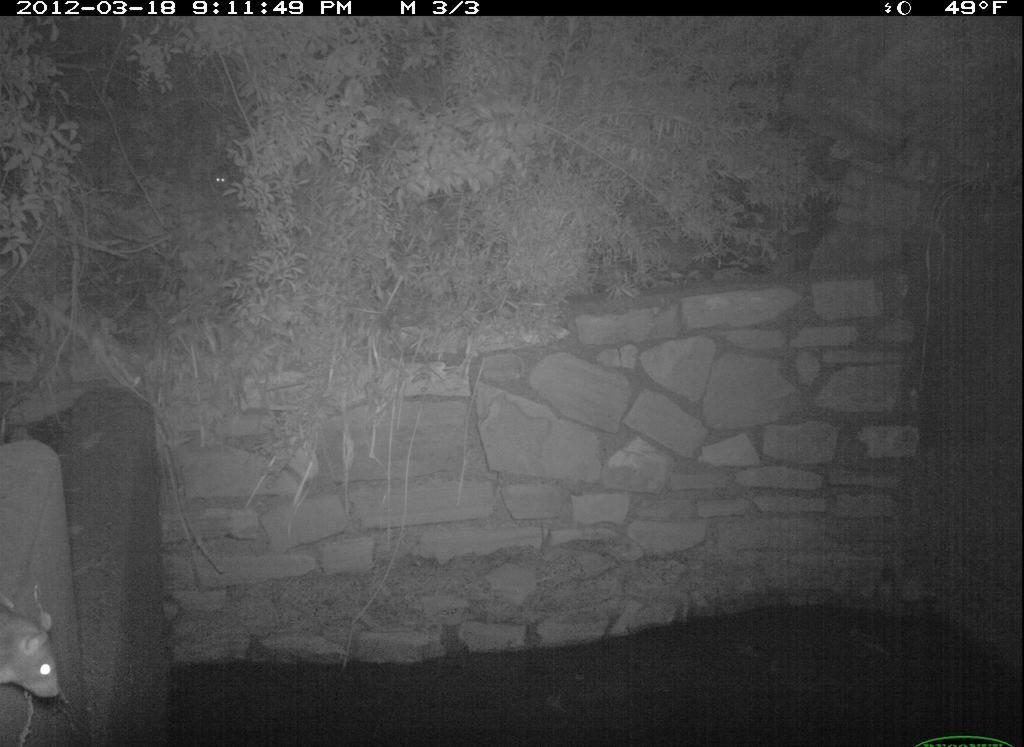rodent: (2, 592, 76, 715)
